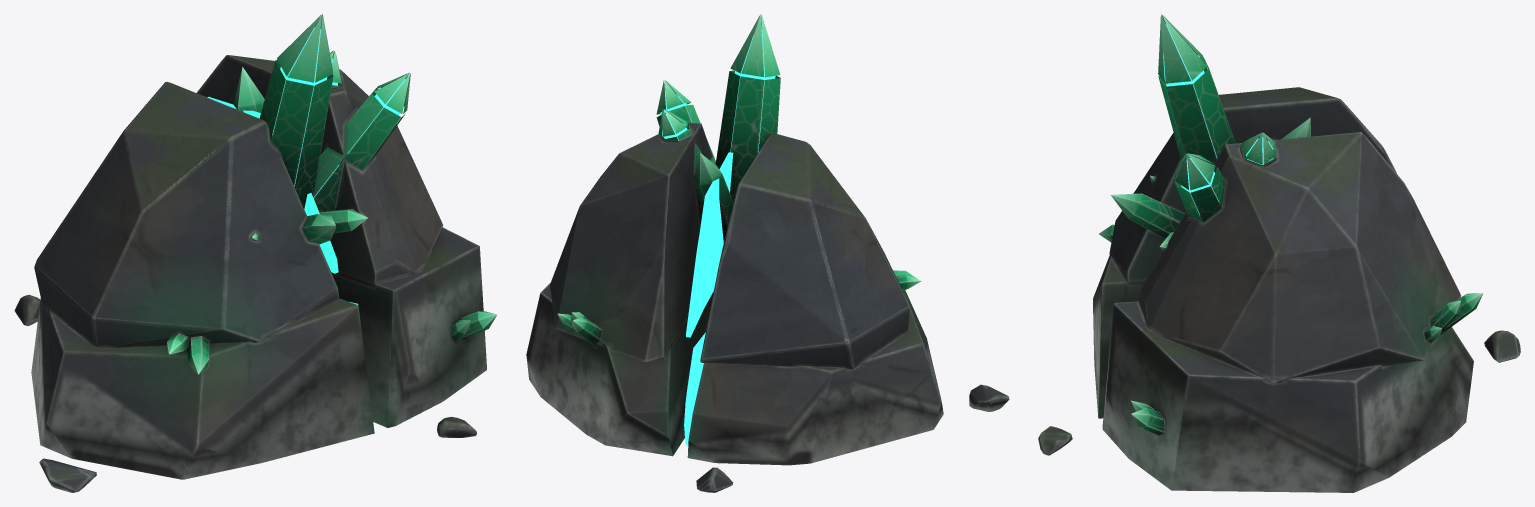
The model's file is emerald_ore.fbx.
The picture shows the model from 3 angles, left to right: view 1: azimuth 30°, elevation 25°; view 2: azimuth 150°, elevation 25°; view 3: azimuth 270°, elevation 25°; orthographic projection. The views are drawn at different scales.
Visible parts, largest first — view 1: EmeraldOre_Body, EmeraldOre_GLOW; view 2: EmeraldOre_Body, EmeraldOre_GLOW; view 3: EmeraldOre_Body, EmeraldOre_GLOW.
Part boxes in pixels (x1=…): EmeraldOre_Body: x1=14, y1=14, x2=497, y2=492; EmeraldOre_GLOW: x1=207, y1=27, x2=405, y2=304; EmeraldOre_Body: x1=526, y1=14, x2=1009, y2=492; EmeraldOre_GLOW: x1=660, y1=29, x2=775, y2=445; EmeraldOre_Body: x1=1038, y1=14, x2=1520, y2=492; EmeraldOre_GLOW: x1=1163, y1=24, x2=1273, y2=214.
Bounding box in the file's own units: 4.77 × 3.99 × 4.42.
Materials: 2 (1 with a texture image).
